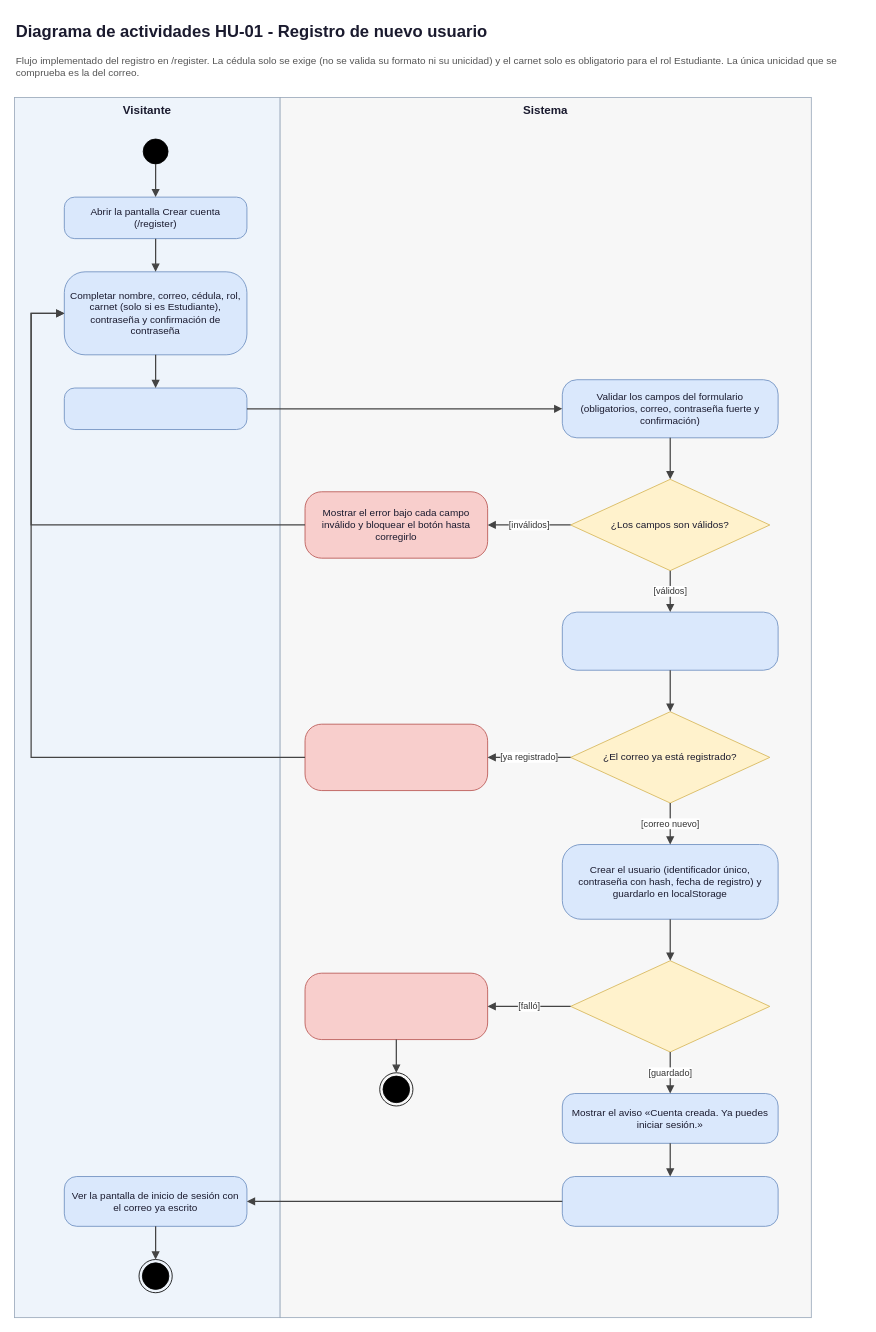
The diagram is 876 pixels wide and 1332 high, and some of its shapes have lost their labels. The centre of each missing label's shape, as x and y in pixels:
"Buscar el correo, sin distinguir mayúsculas, entre los usuarios guardados" goes at (669,640).
"Enviar el formulario con el botón Crear cuenta" goes at (155,408).
"Mostrar la alerta «El correo ya está registrado.»" goes at (396,757).
"Mostrar la alerta «No se pudo guardar en el almacenamiento del navegador…»" goes at (396,1006).
"Redirigir a /login con el correo precargado" goes at (669,1201).
"¿Se guardó en el almacenamiento?" goes at (670,1006).
